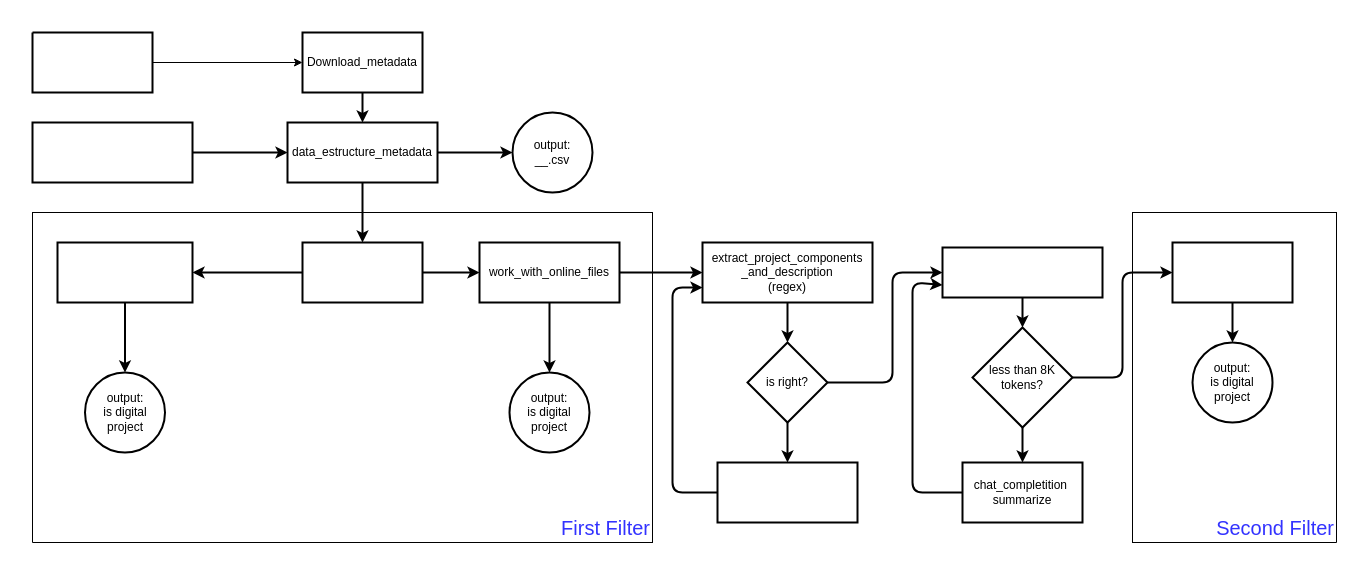
The diagram is 1368 pixels wide and 574 high, and some of its shapes have lost their labels. The shapes that lost their labels are listed below. From the top down, each one's centre as x and y in pixels, then its label:
At [92,62]: "Connect to the API (Worl Bank)".
At [112,152]: "select_relevant_projects (PowerBI database)".
At [124,272]: "download_pdf_txts".
At [362,272]: "gpt_classification (full_pdf)".
At [1022,272]: "project_components".
At [1232,272]: "OPENAIL AI service: clasification 6 pillars".
At [787,492]: "azure_form_recognizer".
